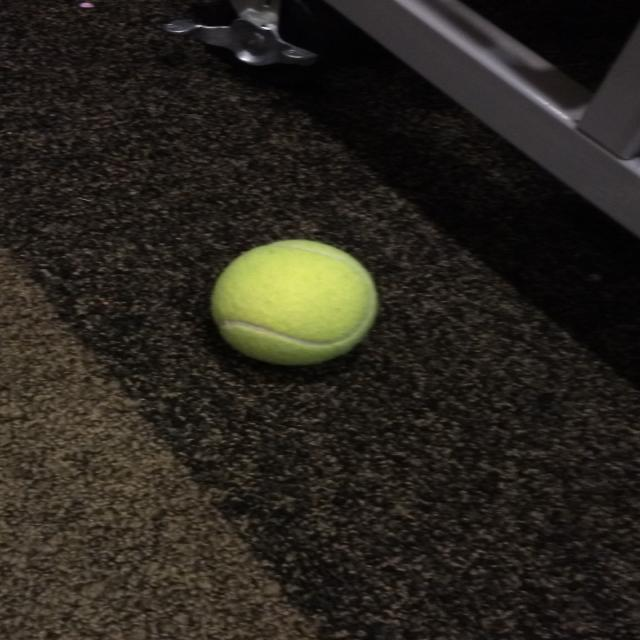ball: (206, 236, 382, 366)
